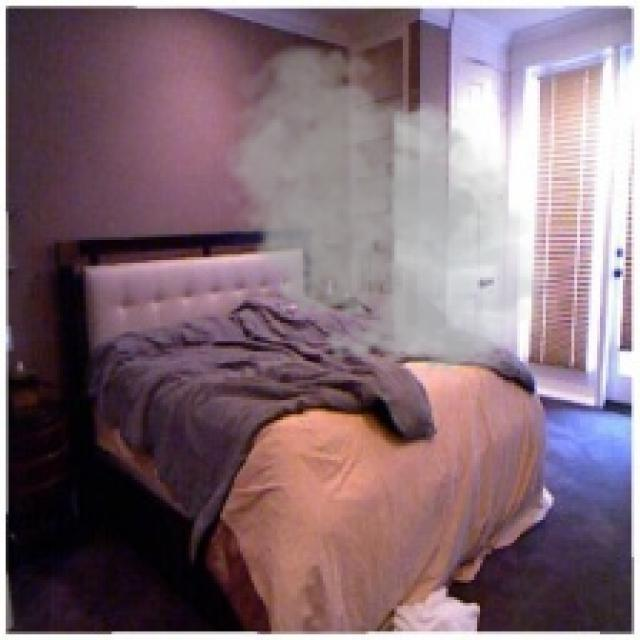Smoke: (212, 37, 557, 383)
